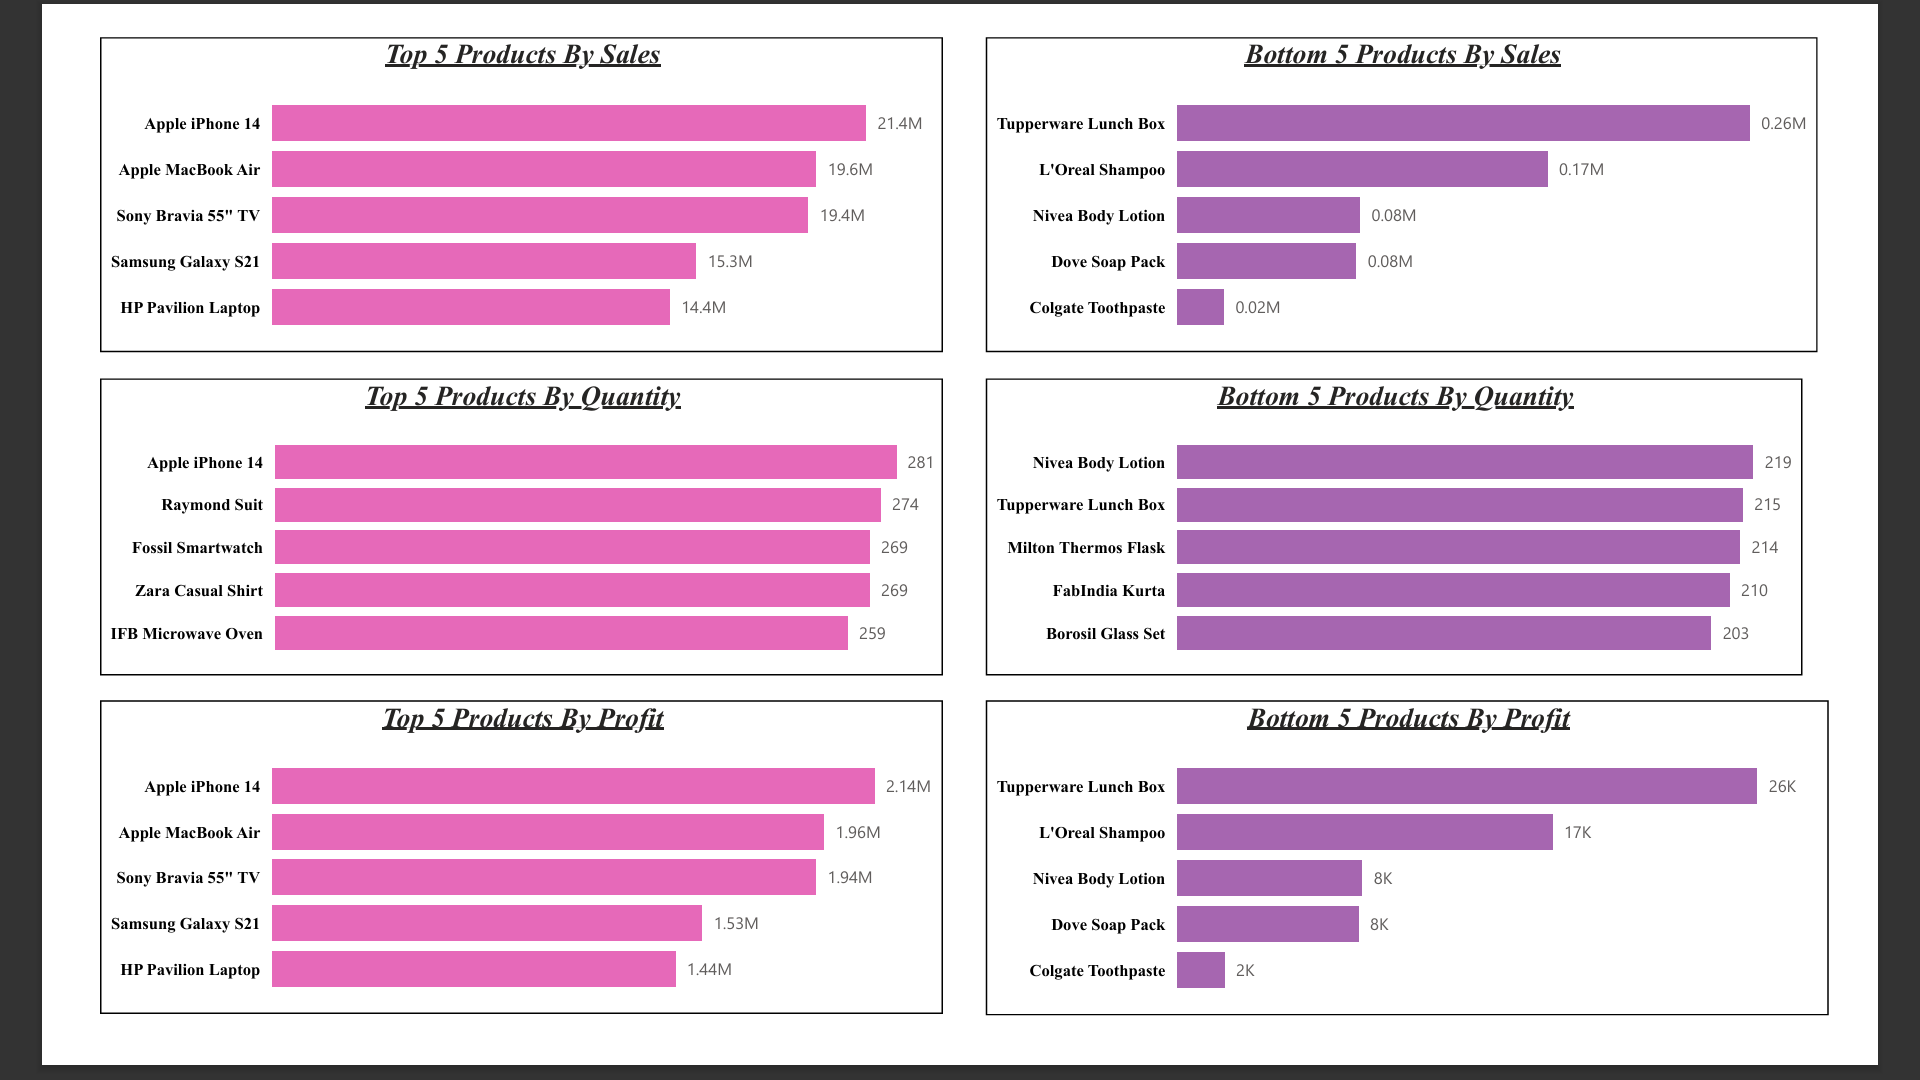

The page's visual inventory and layout, read from the dashboard file:
{"tool":"powerbi","page":{"name":"Top/Bottom 5 Analysis","canvas":[1280,720],"ordinal":1},"visuals":[{"type":"barChart","title":"Top 5 Products By Sales","fields":{"Category":["Dim Product.Product Name"],"Y":["Sum(Fact Table.Net Sales   )"]},"box":[17.8,0,610.6,227.8],"z":0},{"type":"barChart","title":"Bottom 5 Products By Sales","fields":{"Category":["Dim Product.Product Name"],"Y":["Sum(Fact Table.Net Sales   )"]},"box":[658.7,0,602.4,227.8],"z":1000},{"type":"barChart","title":"Top 5 Products By Quantity","fields":{"Category":["Dim Product.Product Name"],"Y":["Sum(Fact Table.Units Sold)"]},"box":[17.8,247,610.6,215.4],"z":2000},{"type":"barChart","title":"Bottom 5 Products By Quantity","fields":{"Category":["Dim Product.Product Name"],"Y":["Sum(Fact Table.Units Sold)"]},"box":[658.7,247,591.4,215.4],"z":3000},{"type":"barChart","title":"Top 5 Products By Profit","fields":{"Category":["Dim Product.Product Name"],"Y":["Sum(Fact Table.Profit)"]},"box":[17.8,480.3,610.6,226.4],"z":4000},{"type":"barChart","title":"Bottom 5 Products By Profit","fields":{"Category":["Dim Product.Product Name"],"Y":["Sum(Fact Table.Profit)"]},"box":[658.7,480.3,610.6,227.8],"z":5000}]}

Visuals, with their boxes in screenshot pixels (x1, y1, x2, y2), scaled from the page's 1280x720 canvas onto the 1920x1080 screenshot:
"Top 5 Products By Sales" barChart: bbox=(27, 0, 943, 342)
"Bottom 5 Products By Sales" barChart: bbox=(988, 0, 1892, 342)
"Top 5 Products By Quantity" barChart: bbox=(27, 370, 943, 694)
"Bottom 5 Products By Quantity" barChart: bbox=(988, 370, 1875, 694)
"Top 5 Products By Profit" barChart: bbox=(27, 720, 943, 1060)
"Bottom 5 Products By Profit" barChart: bbox=(988, 720, 1904, 1062)
